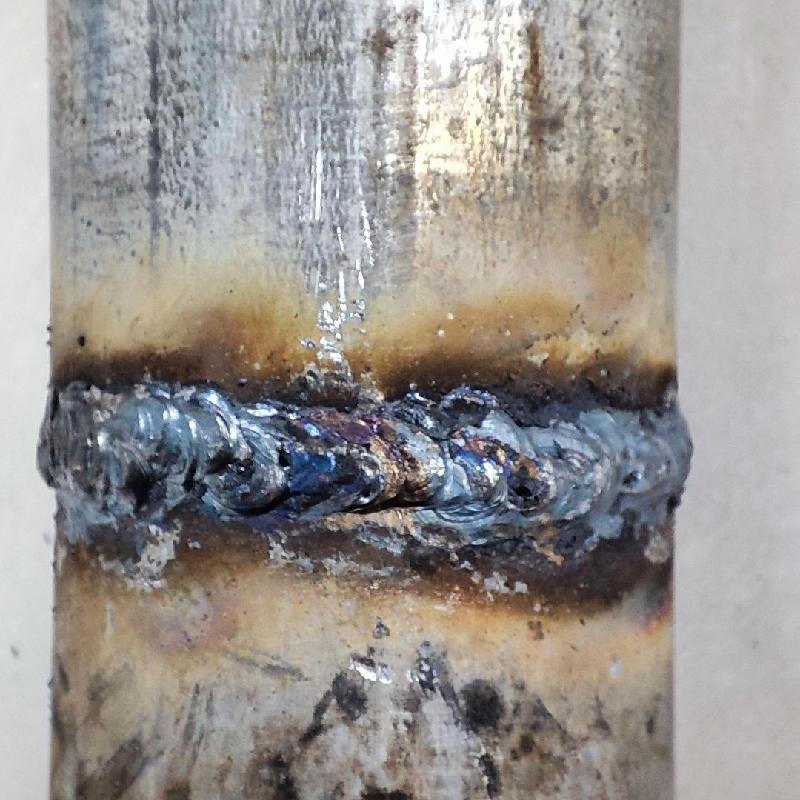Surface_pores: (611, 465, 654, 500), (508, 473, 547, 508), (272, 444, 303, 477)
good: (31, 370, 695, 531)
